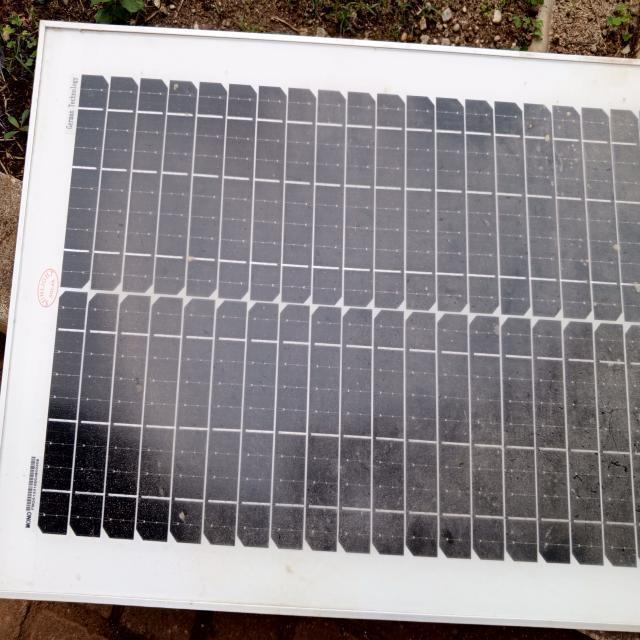Surface Contaminant: (69, 79, 639, 581)
